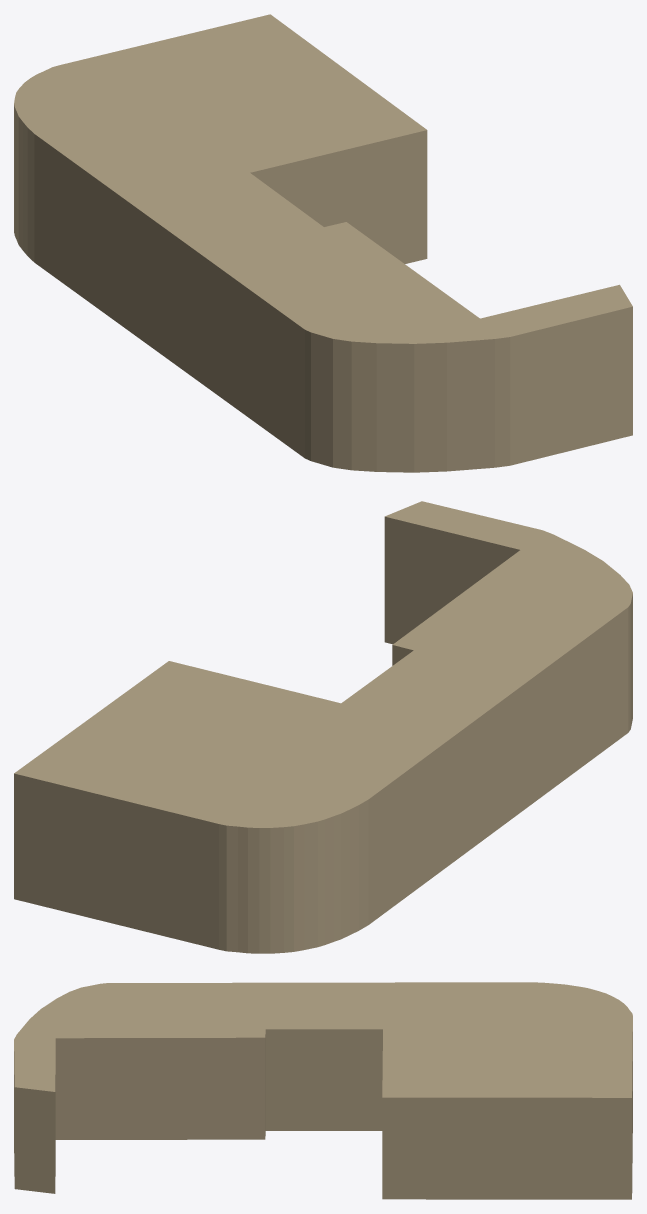
3 views of the same model, one above another, from view 1: azimuth 30°, elevation 25°; view 2: azimuth 150°, elevation 25°; view 3: azimuth 270°, elevation 25° (orthographic). The views are drawn at different scales.
Parts seen in each view (by area): view 1: Cube.018; view 2: Cube.018; view 3: Cube.018.
Boxes of the visible parts, bbox=[...] form: Cube.018: bbox=[14, 14, 632, 472]; Cube.018: bbox=[14, 501, 632, 953]; Cube.018: bbox=[14, 982, 632, 1199].
Size of the model in its own units: 834 by 343 by 1887.
